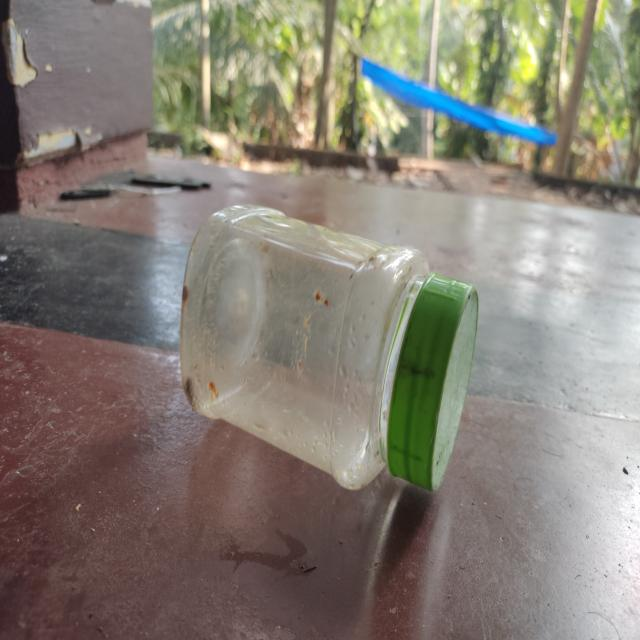plastic: (179, 200, 481, 496)
